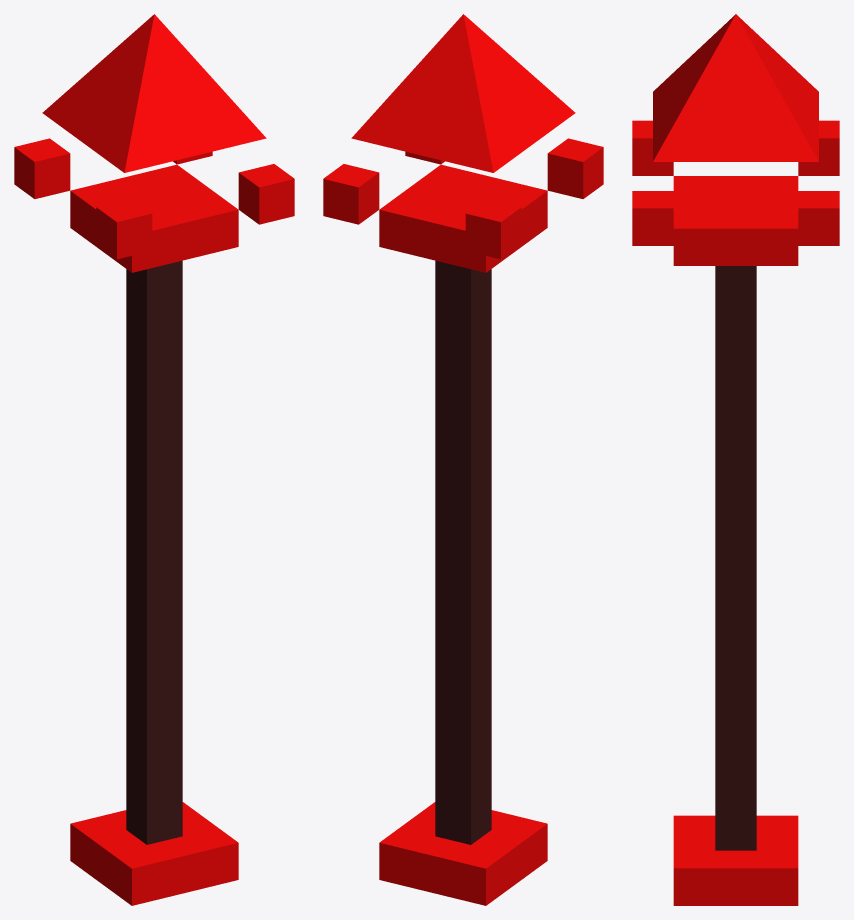
The model's file is Withard staf.obj.
3 views of the same model, side by side, from view 1: azimuth 30°, elevation 25°; view 2: azimuth 150°, elevation 25°; view 3: azimuth 270°, elevation 25° (orthographic).
Visible parts, largest first — view 1: cube, pyramid; view 2: cube, pyramid; view 3: cube, pyramid.
Boxes of the visible parts, bbox=[...] form: cube: bbox=[14, 138, 294, 905]; pyramid: bbox=[42, 14, 266, 172]; cube: bbox=[323, 138, 603, 905]; pyramid: bbox=[351, 14, 575, 172]; cube: bbox=[632, 120, 839, 905]; pyramid: bbox=[653, 14, 818, 161].
Size of the model in its own units: 0.3125 by 1.44 by 0.3125.
